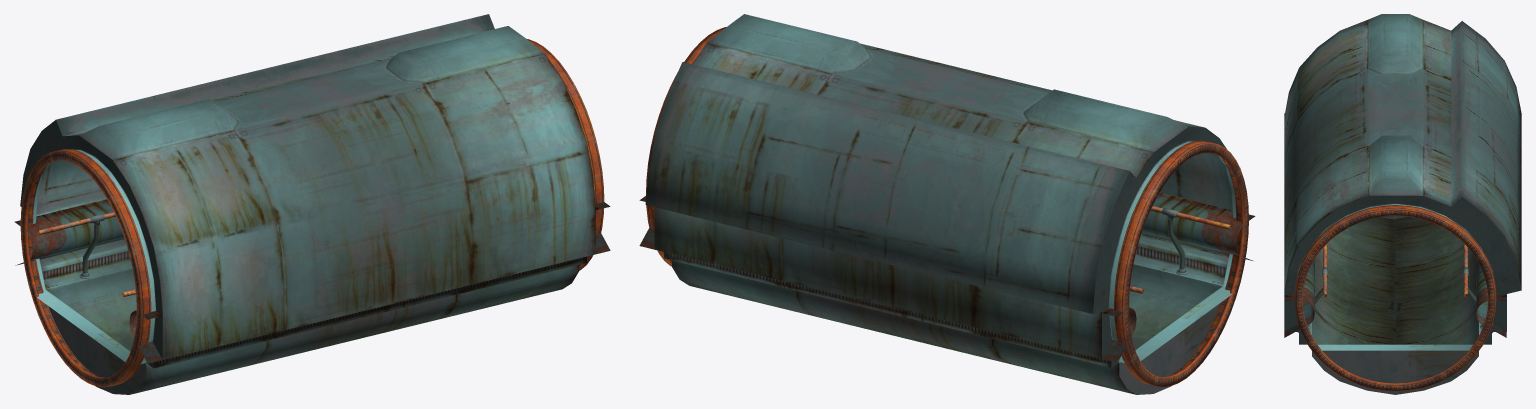
Rendered from phi_tunnel_straight.DAE.
The picture shows the model from 3 angles, left to right: view 1: azimuth 30°, elevation 25°; view 2: azimuth 150°, elevation 25°; view 3: azimuth 270°, elevation 25°; orthographic projection. The views are drawn at different scales.
Visible parts, largest first — view 1: phitunnel_straight09, phitunnel_straight03, phitunnel_straight05, phitunnel_straight02, phitunnel_straight04, phitunnel_straight01; view 2: phitunnel_straight09, phitunnel_straight03, phitunnel_straight04, phitunnel_straight01, phitunnel_straight05, phitunnel_straight02; view 3: phitunnel_straight09, phitunnel_straight02, phitunnel_straight04, phitunnel_straight05, phitunnel_straight01.
Boxes of the visible parts, x1,y1,x2,y2 form: phitunnel_straight09: [20, 14, 595, 394]; phitunnel_straight03: [20, 149, 151, 387]; phitunnel_straight05: [14, 199, 124, 265]; phitunnel_straight02: [527, 39, 604, 270]; phitunnel_straight04: [129, 202, 610, 363]; phitunnel_straight01: [37, 212, 135, 296]; phitunnel_straight09: [645, 14, 1235, 394]; phitunnel_straight03: [1114, 140, 1248, 386]; phitunnel_straight04: [1141, 193, 1255, 260]; phitunnel_straight01: [1130, 206, 1231, 293]; phitunnel_straight05: [639, 196, 1136, 362]; phitunnel_straight02: [646, 27, 726, 266]; phitunnel_straight09: [1284, 14, 1521, 394]; phitunnel_straight02: [1294, 205, 1496, 391]; phitunnel_straight04: [1284, 113, 1314, 337]; phitunnel_straight05: [1476, 259, 1506, 337]; phitunnel_straight01: [1307, 244, 1483, 328].
Bounding box in the file's own units: 8 × 4.17 × 4.27.
